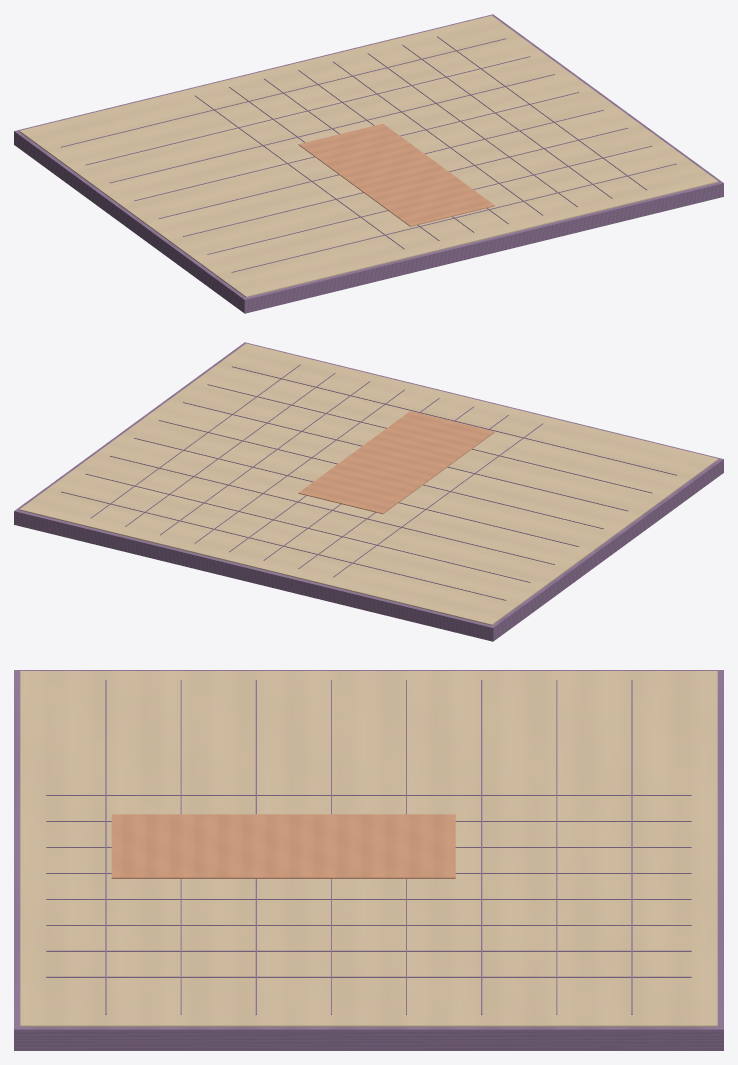
Rendered from atlas100-s082-a07.lod1.glb.
3 views of the same model, one above another, from view 1: azimuth 30°, elevation 25°; view 2: azimuth 150°, elevation 25°; view 3: azimuth 270°, elevation 25° (orthographic). The views are drawn at different scales.
Visible parts, largest first — view 1: atlas100-s082-a07:part-001, atlas100-s082-a07:part-000, atlas100-s082-a07:part-021, atlas100-s082-a07:part-014, atlas100-s082-a07:part-020, atlas100-s082-a07:part-015, atlas100-s082-a07:part-013, atlas100-s082-a07:part-016, atlas100-s082-a07:part-018, atlas100-s082-a07:part-019, atlas100-s082-a07:part-017; view 2: atlas100-s082-a07:part-001, atlas100-s082-a07:part-000, atlas100-s082-a07:part-021, atlas100-s082-a07:part-013, atlas100-s082-a07:part-015, atlas100-s082-a07:part-014, atlas100-s082-a07:part-020, atlas100-s082-a07:part-017, atlas100-s082-a07:part-019, atlas100-s082-a07:part-018, atlas100-s082-a07:part-016; view 3: atlas100-s082-a07:part-001, atlas100-s082-a07:part-000, atlas100-s082-a07:part-021, atlas100-s082-a07:part-011, atlas100-s082-a07:part-012, atlas100-s082-a07:part-013, atlas100-s082-a07:part-014, atlas100-s082-a07:part-015, atlas100-s082-a07:part-020, atlas100-s082-a07:part-010, atlas100-s082-a07:part-009, atlas100-s082-a07:part-005.
Part boxes in pixels (x1,y1,x2,y2): atlas100-s082-a07:part-001: [19, 15, 718, 297]; atlas100-s082-a07:part-000: [14, 14, 723, 313]; atlas100-s082-a07:part-021: [298, 123, 494, 226]; atlas100-s082-a07:part-014: [85, 56, 530, 165]; atlas100-s082-a07:part-020: [231, 163, 676, 272]; atlas100-s082-a07:part-015: [110, 74, 554, 183]; atlas100-s082-a07:part-013: [61, 38, 505, 147]; atlas100-s082-a07:part-016: [134, 92, 579, 201]; atlas100-s082-a07:part-018: [183, 127, 627, 236]; atlas100-s082-a07:part-019: [207, 145, 652, 254]; atlas100-s082-a07:part-017: [158, 110, 603, 218]; atlas100-s082-a07:part-001: [19, 343, 718, 625]; atlas100-s082-a07:part-000: [14, 342, 723, 641]; atlas100-s082-a07:part-021: [298, 411, 494, 513]; atlas100-s082-a07:part-013: [61, 491, 506, 600]; atlas100-s082-a07:part-015: [110, 455, 554, 564]; atlas100-s082-a07:part-014: [85, 473, 530, 582]; atlas100-s082-a07:part-020: [232, 366, 676, 475]; atlas100-s082-a07:part-017: [158, 420, 603, 529]; atlas100-s082-a07:part-019: [207, 384, 652, 493]; atlas100-s082-a07:part-018: [183, 402, 627, 511]; atlas100-s082-a07:part-016: [134, 438, 579, 546]; atlas100-s082-a07:part-001: [20, 671, 717, 1026]; atlas100-s082-a07:part-000: [14, 670, 723, 1050]; atlas100-s082-a07:part-021: [111, 814, 455, 878]; atlas100-s082-a07:part-011: [46, 950, 691, 951]; atlas100-s082-a07:part-012: [46, 976, 691, 977]; atlas100-s082-a07:part-013: [631, 680, 632, 1014]; atlas100-s082-a07:part-014: [556, 680, 557, 1014]; atlas100-s082-a07:part-015: [481, 680, 482, 1014]; atlas100-s082-a07:part-020: [105, 680, 106, 1014]; atlas100-s082-a07:part-010: [46, 925, 691, 925]; atlas100-s082-a07:part-009: [46, 899, 691, 899]; atlas100-s082-a07:part-005: [46, 795, 691, 795].
Size of the model in its own units: 12.46 by 0.404 by 10.4.
Materials: 3 (3 with a texture image).
